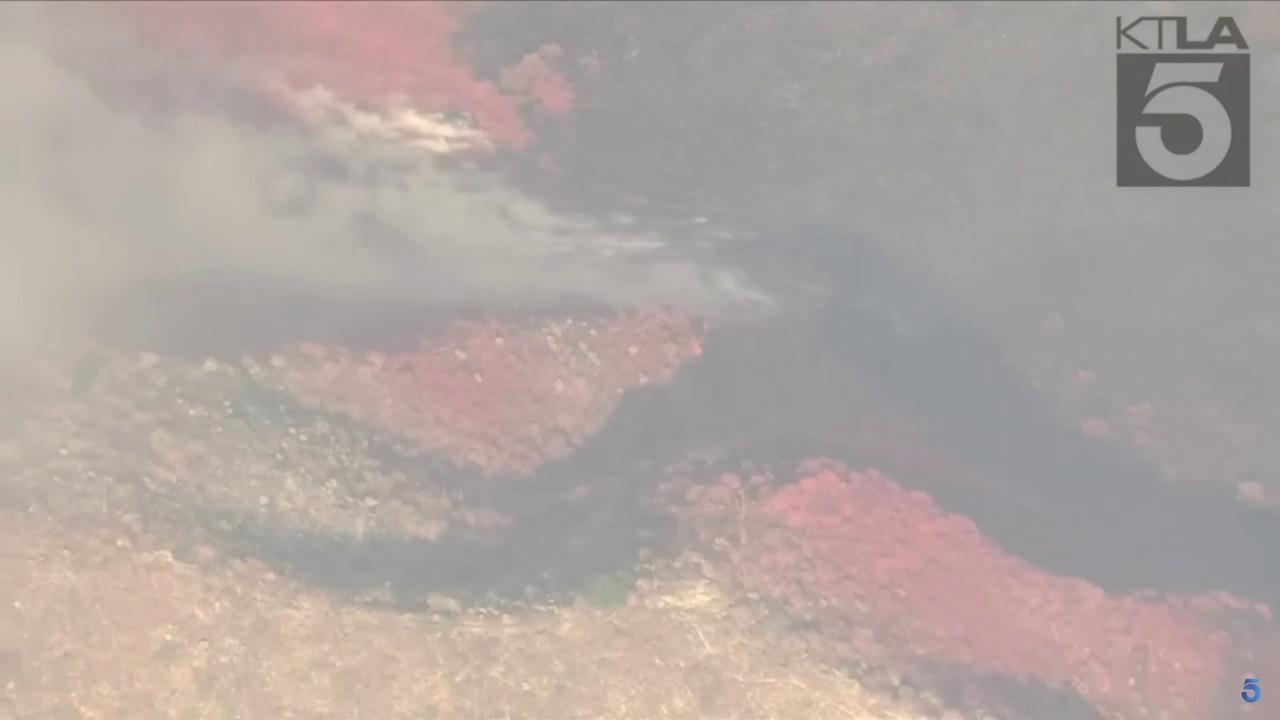smoke: (0, 0, 774, 320)
